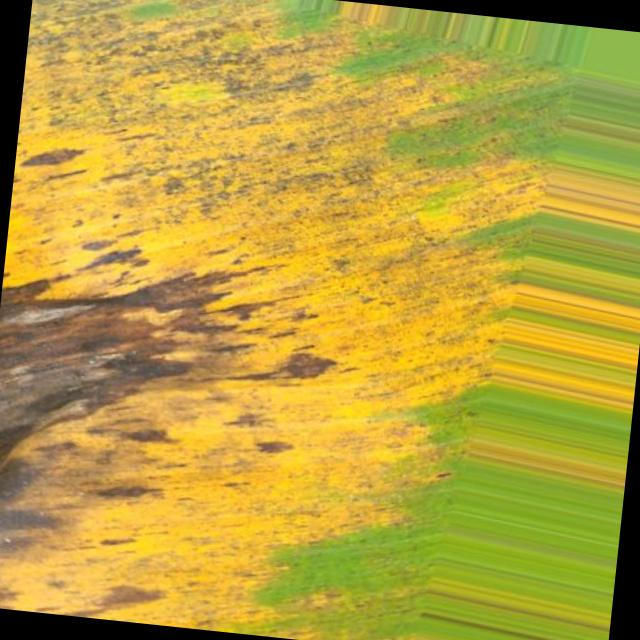Banana_Black_Sigatoka: (0, 190, 299, 630), (64, 0, 545, 264)
